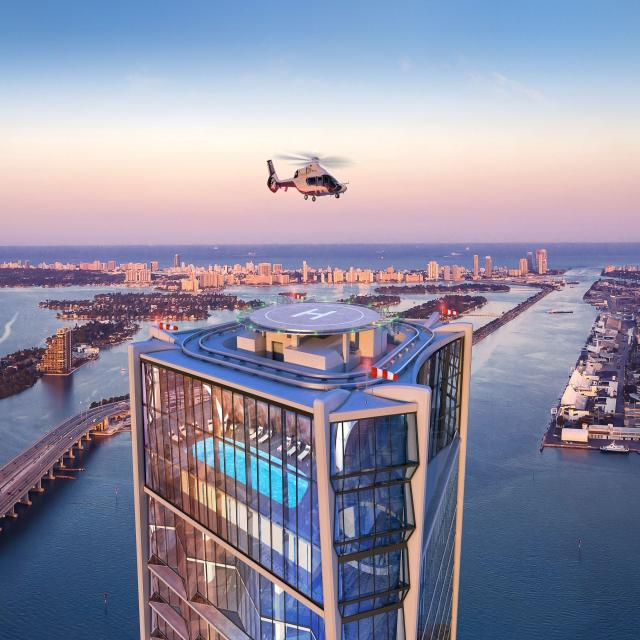helipad: (262, 302, 364, 326)
